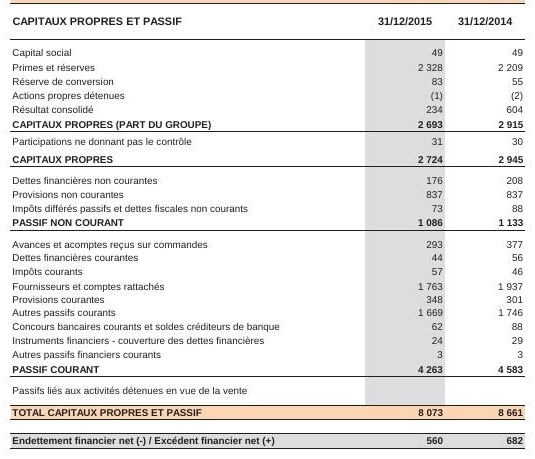table: (0, 0, 535, 459)
